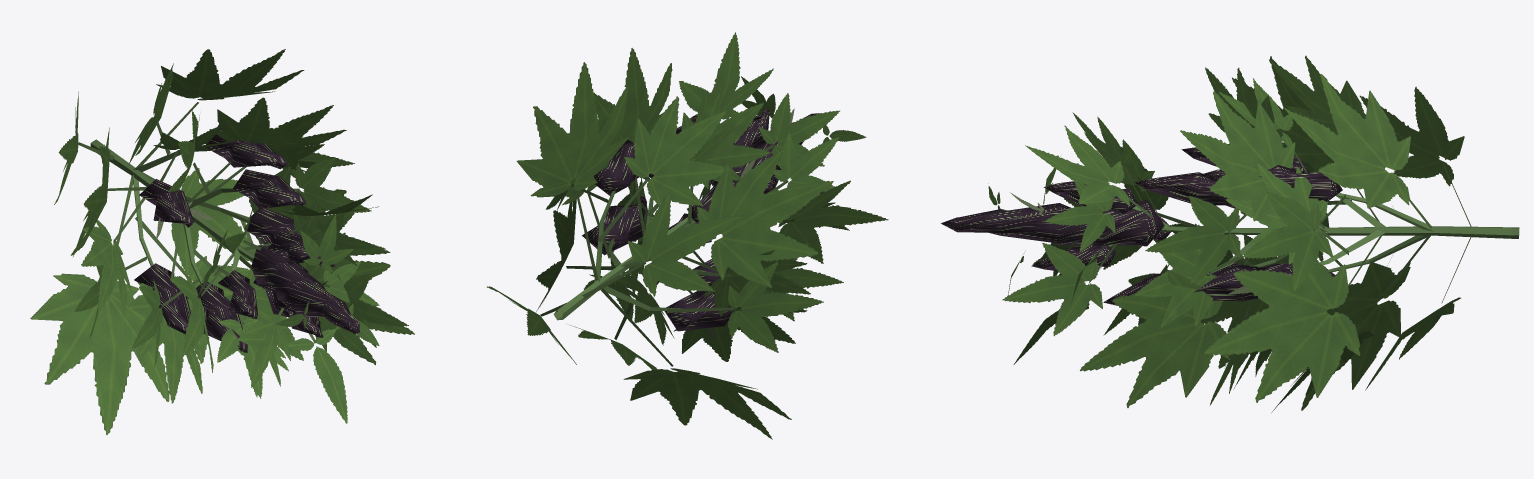
File: p_dark_hybrid_flowering_c0_cards.obj
3 views of the same model, side by side, from view 1: azimuth 30°, elevation 25°; view 2: azimuth 150°, elevation 25°; view 3: azimuth 270°, elevation 25° (orthographic). The views are drawn at different scales.
Bounding box in the file's own units: 1.28 × 1.46 × 1.64.
1 material, 1 textured.
